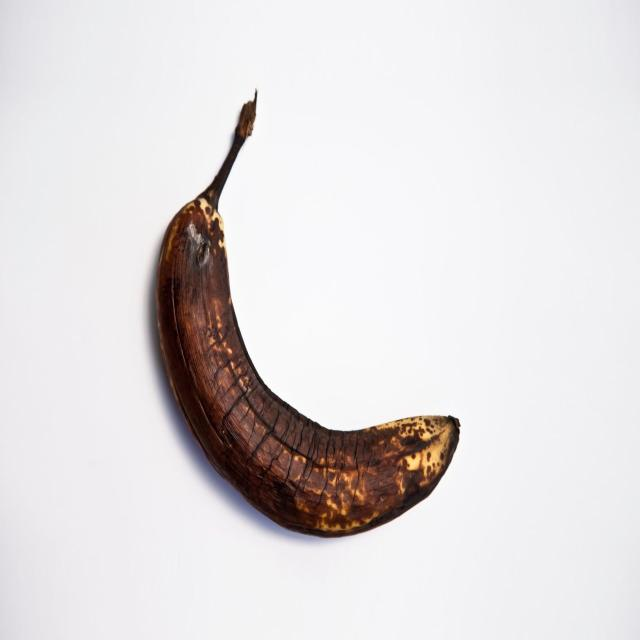banana: (147, 79, 465, 552)
